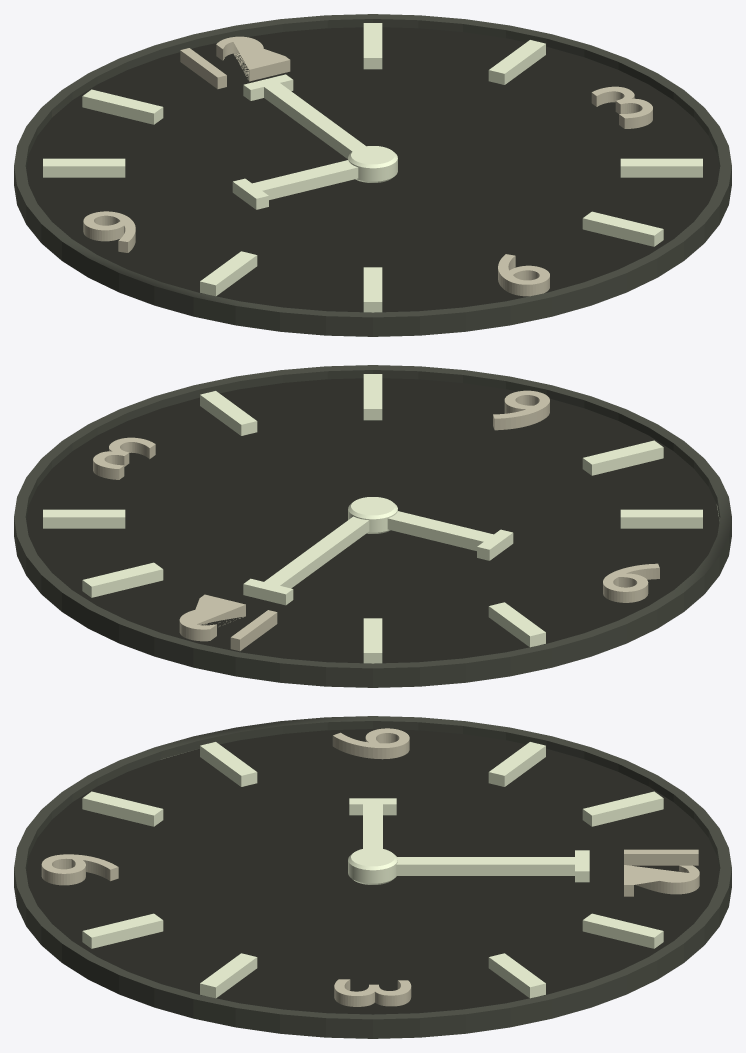
The model's file is Clock.fbx.
3 renders of one model, top to bottom at view 1: azimuth 30°, elevation 25°; view 2: azimuth 150°, elevation 25°; view 3: azimuth 270°, elevation 25°, orthographic.
Parts seen in each view (by area): view 1: ClockMainBody01, MinuteDirection, 12, HourDirection, 3, 6, 9, ClockMainBody02; view 2: ClockMainBody01, MinuteDirection, 12, HourDirection, 6, 9, 3, ClockMainBody02; view 3: ClockMainBody01, MinuteDirection, 12, 6, 9, ClockMainBody02, 3, HourDirection.
Boxes of the visible parts, x1,y1,x2,y2 form: ClockMainBody01: (14, 14, 731, 336); MinuteDirection: (243, 74, 365, 158); 12: (180, 36, 290, 89); HourDirection: (232, 160, 358, 209); 3: (591, 86, 652, 128); 6: (498, 254, 549, 296); 9: (83, 211, 135, 252); ClockMainBody02: (348, 146, 397, 182); ClockMainBody01: (14, 365, 731, 687); MinuteDirection: (243, 516, 369, 605); 12: (179, 594, 277, 651); HourDirection: (387, 511, 513, 560); 6: (493, 390, 549, 430); 9: (603, 563, 659, 602); 3: (93, 437, 155, 479); ClockMainBody02: (348, 497, 397, 533); ClockMainBody01: (14, 716, 731, 1038); MinuteDirection: (396, 850, 589, 882); 12: (624, 849, 699, 896); 6: (41, 854, 118, 885); 9: (332, 728, 409, 759); ClockMainBody02: (348, 848, 397, 884); 3: (334, 979, 411, 1006); HourDirection: (349, 798, 396, 848).
Bounding box in the file's own units: 500 × 23.13 × 500.
Materials: 3 (3 with a texture image).
